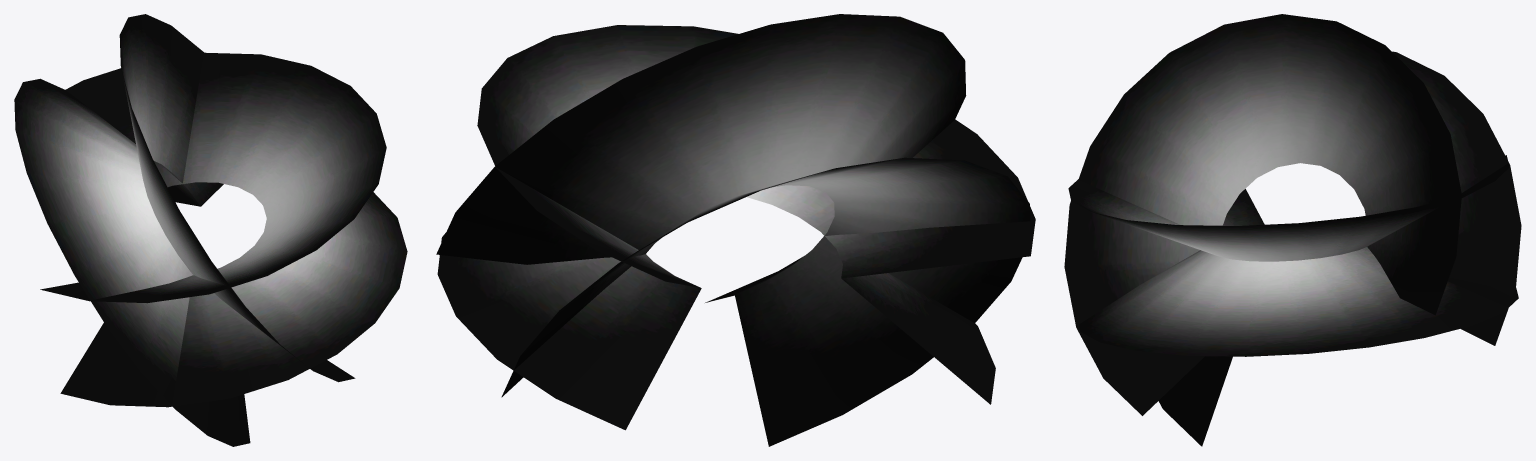
Rendered from vfx_kurp_0282.dae.
3 views of the same model, side by side, from view 1: azimuth 30°, elevation 25°; view 2: azimuth 150°, elevation 25°; view 3: azimuth 270°, elevation 25° (orthographic). The views are drawn at different scales.
Visible parts, largest first — view 1: vfx_kurp_0282; view 2: vfx_kurp_0282; view 3: vfx_kurp_0282.
Boxes of the visible parts, x1,y1,x2,y2 form: vfx_kurp_0282: [14, 14, 407, 446]; vfx_kurp_0282: [436, 14, 1035, 446]; vfx_kurp_0282: [1064, 14, 1521, 446].
Size of the model in its own units: 9.35 by 9.49 by 8.98.
1 material, 1 textured.
